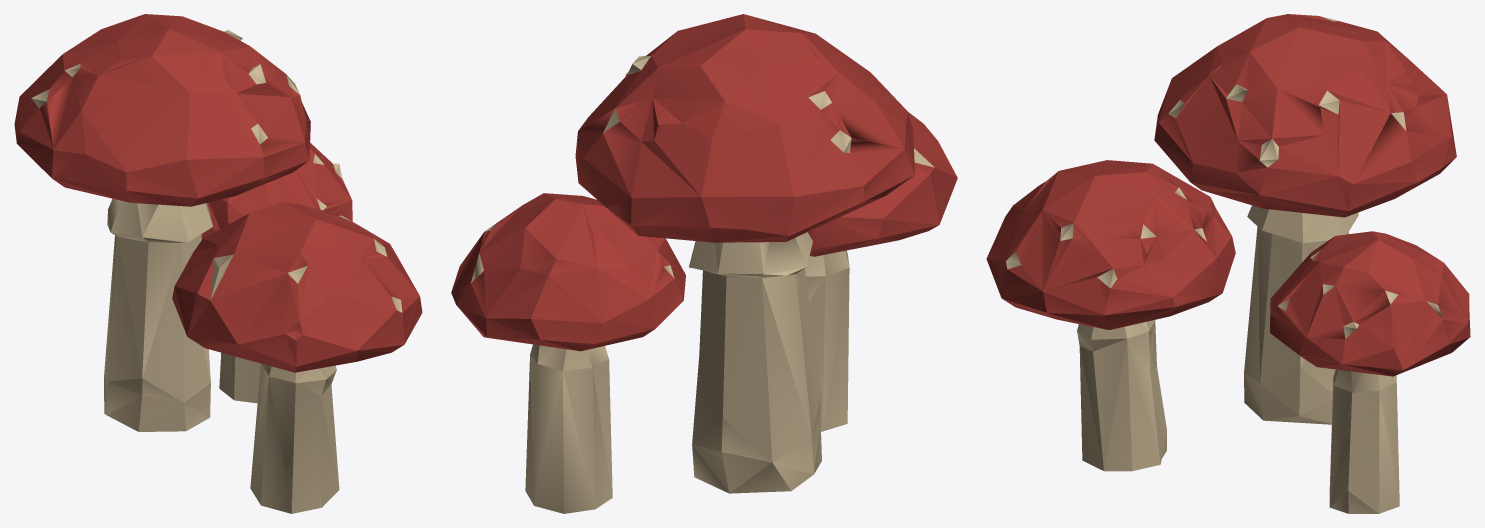
Rendered from mdvl_nature_mushrooms_01.glb.
The picture shows the model from 3 angles, left to right: view 1: azimuth 30°, elevation 25°; view 2: azimuth 150°, elevation 25°; view 3: azimuth 270°, elevation 25°; orthographic projection. The views are drawn at different scales.
Visible parts, largest first — view 1: mdvl_nature_mushrooms_01; view 2: mdvl_nature_mushrooms_01; view 3: mdvl_nature_mushrooms_01.
Part boxes in pixels (x1,y1,x2,y2): mdvl_nature_mushrooms_01: (14, 14, 422, 513); mdvl_nature_mushrooms_01: (451, 14, 957, 513); mdvl_nature_mushrooms_01: (986, 14, 1470, 513).
Bounding box in the file's own units: 0.389 × 0.4548 × 0.4815.
Materials: 1 (1 with a texture image).
